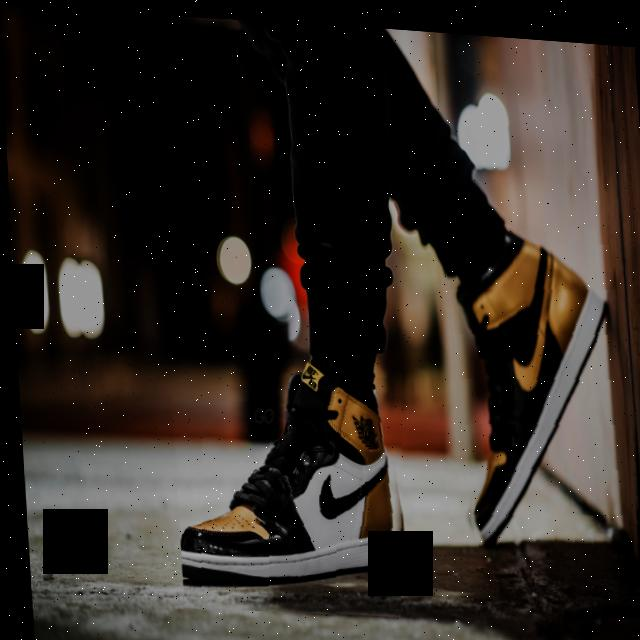shoe: (165, 339, 413, 619), (439, 210, 629, 571)
